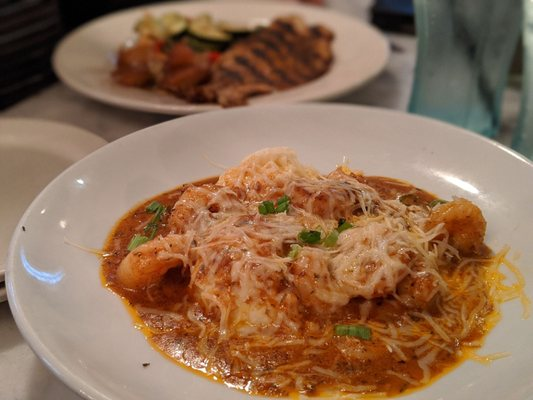curry: (1, 4, 528, 398)
sandwich: (95, 148, 512, 399)
